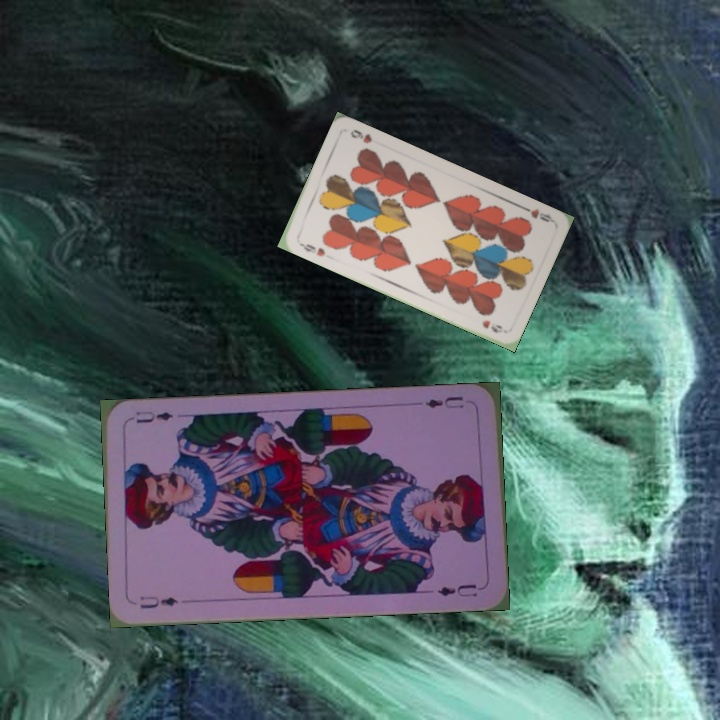EU: (135, 591, 181, 611), (421, 392, 466, 411)
H9: (517, 201, 556, 225), (295, 236, 328, 259)
